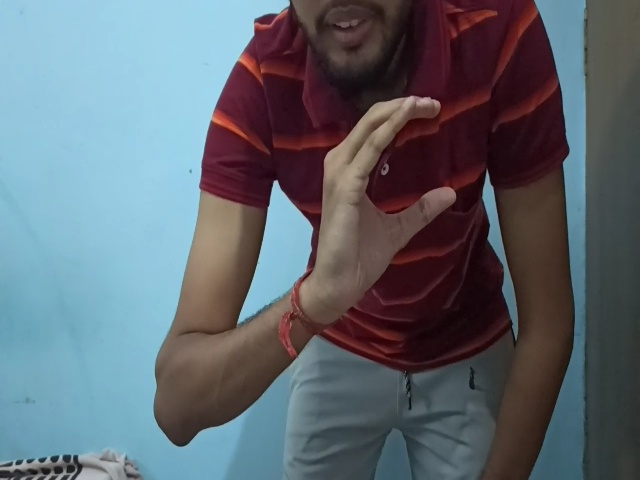C: (317, 96, 455, 315)
